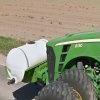Tractor: (18, 30, 97, 100)
